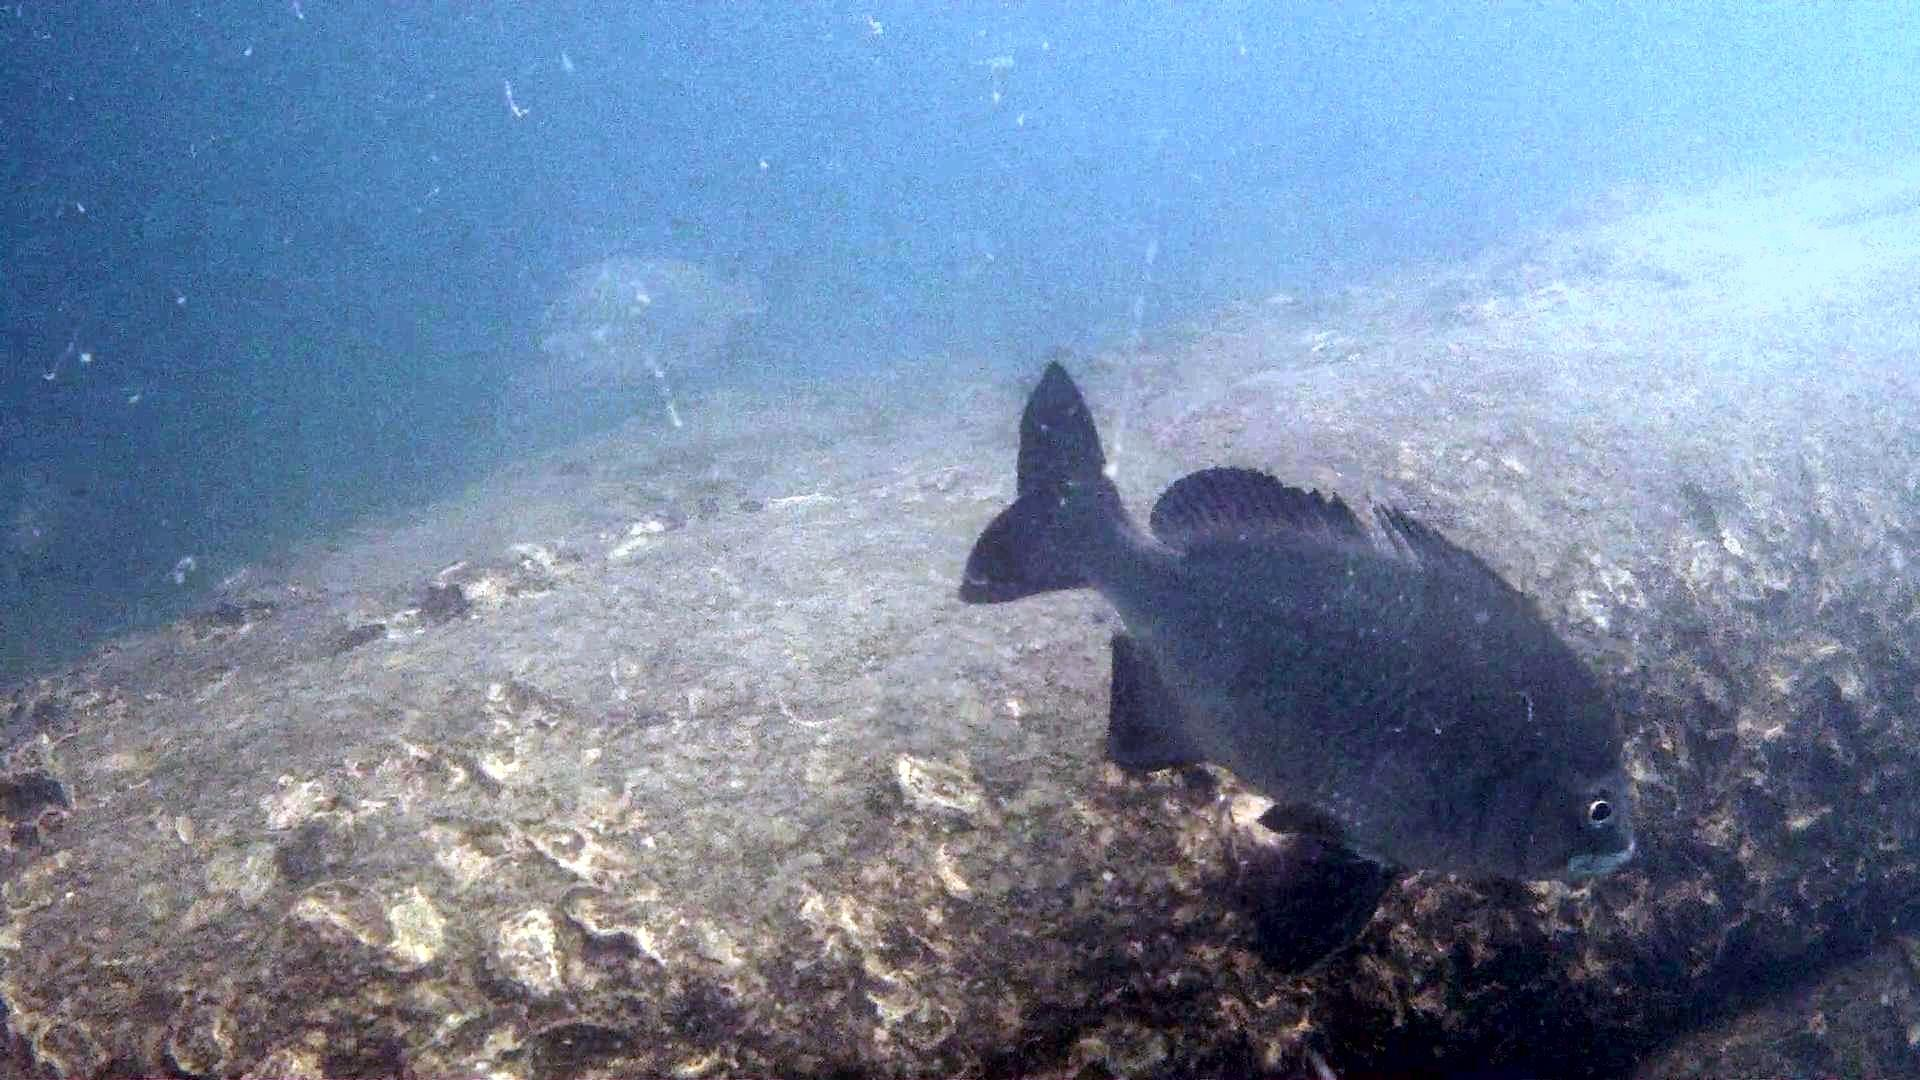acanthopagrus palmaris: (951, 348, 1650, 997)
